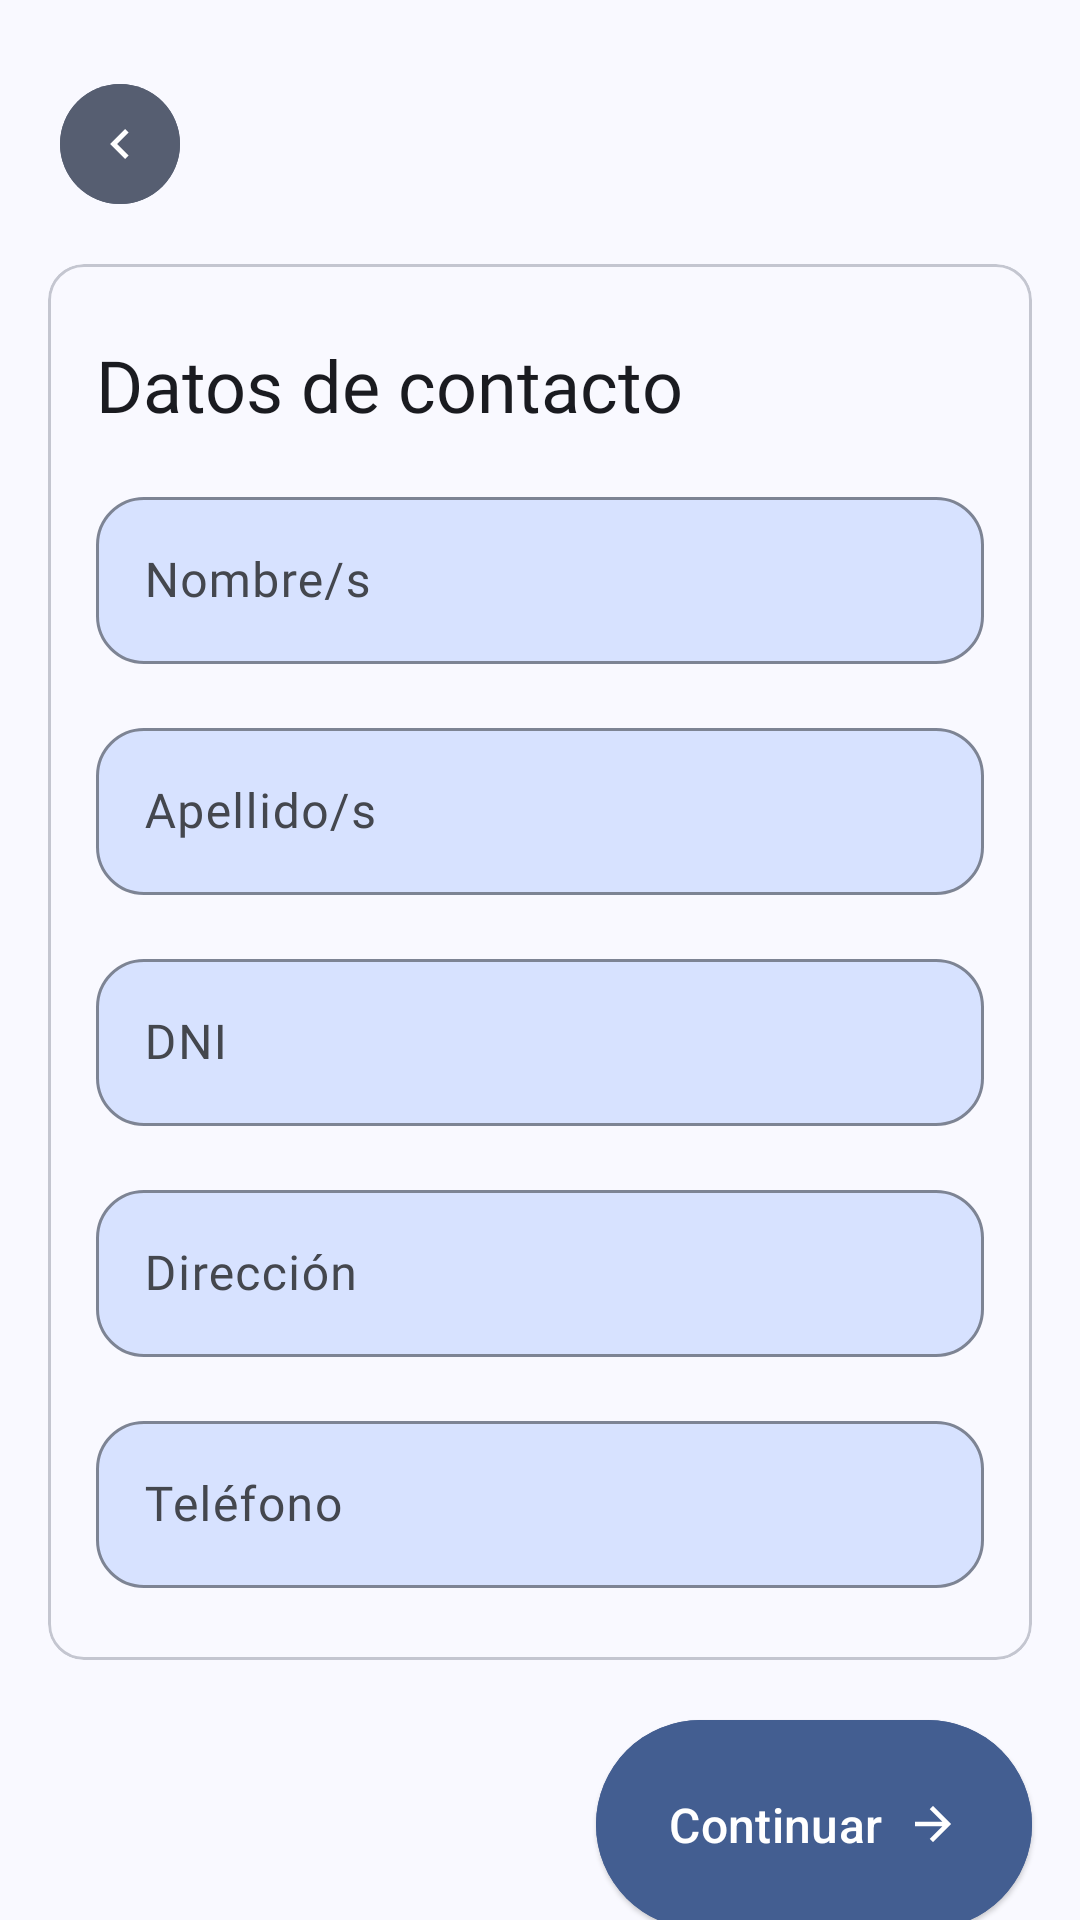

Locate icon controls on the screen. Image size 1080×1920, boxes as (x1, y1, x2, y2).
chevron backward: (60, 84, 180, 204)
